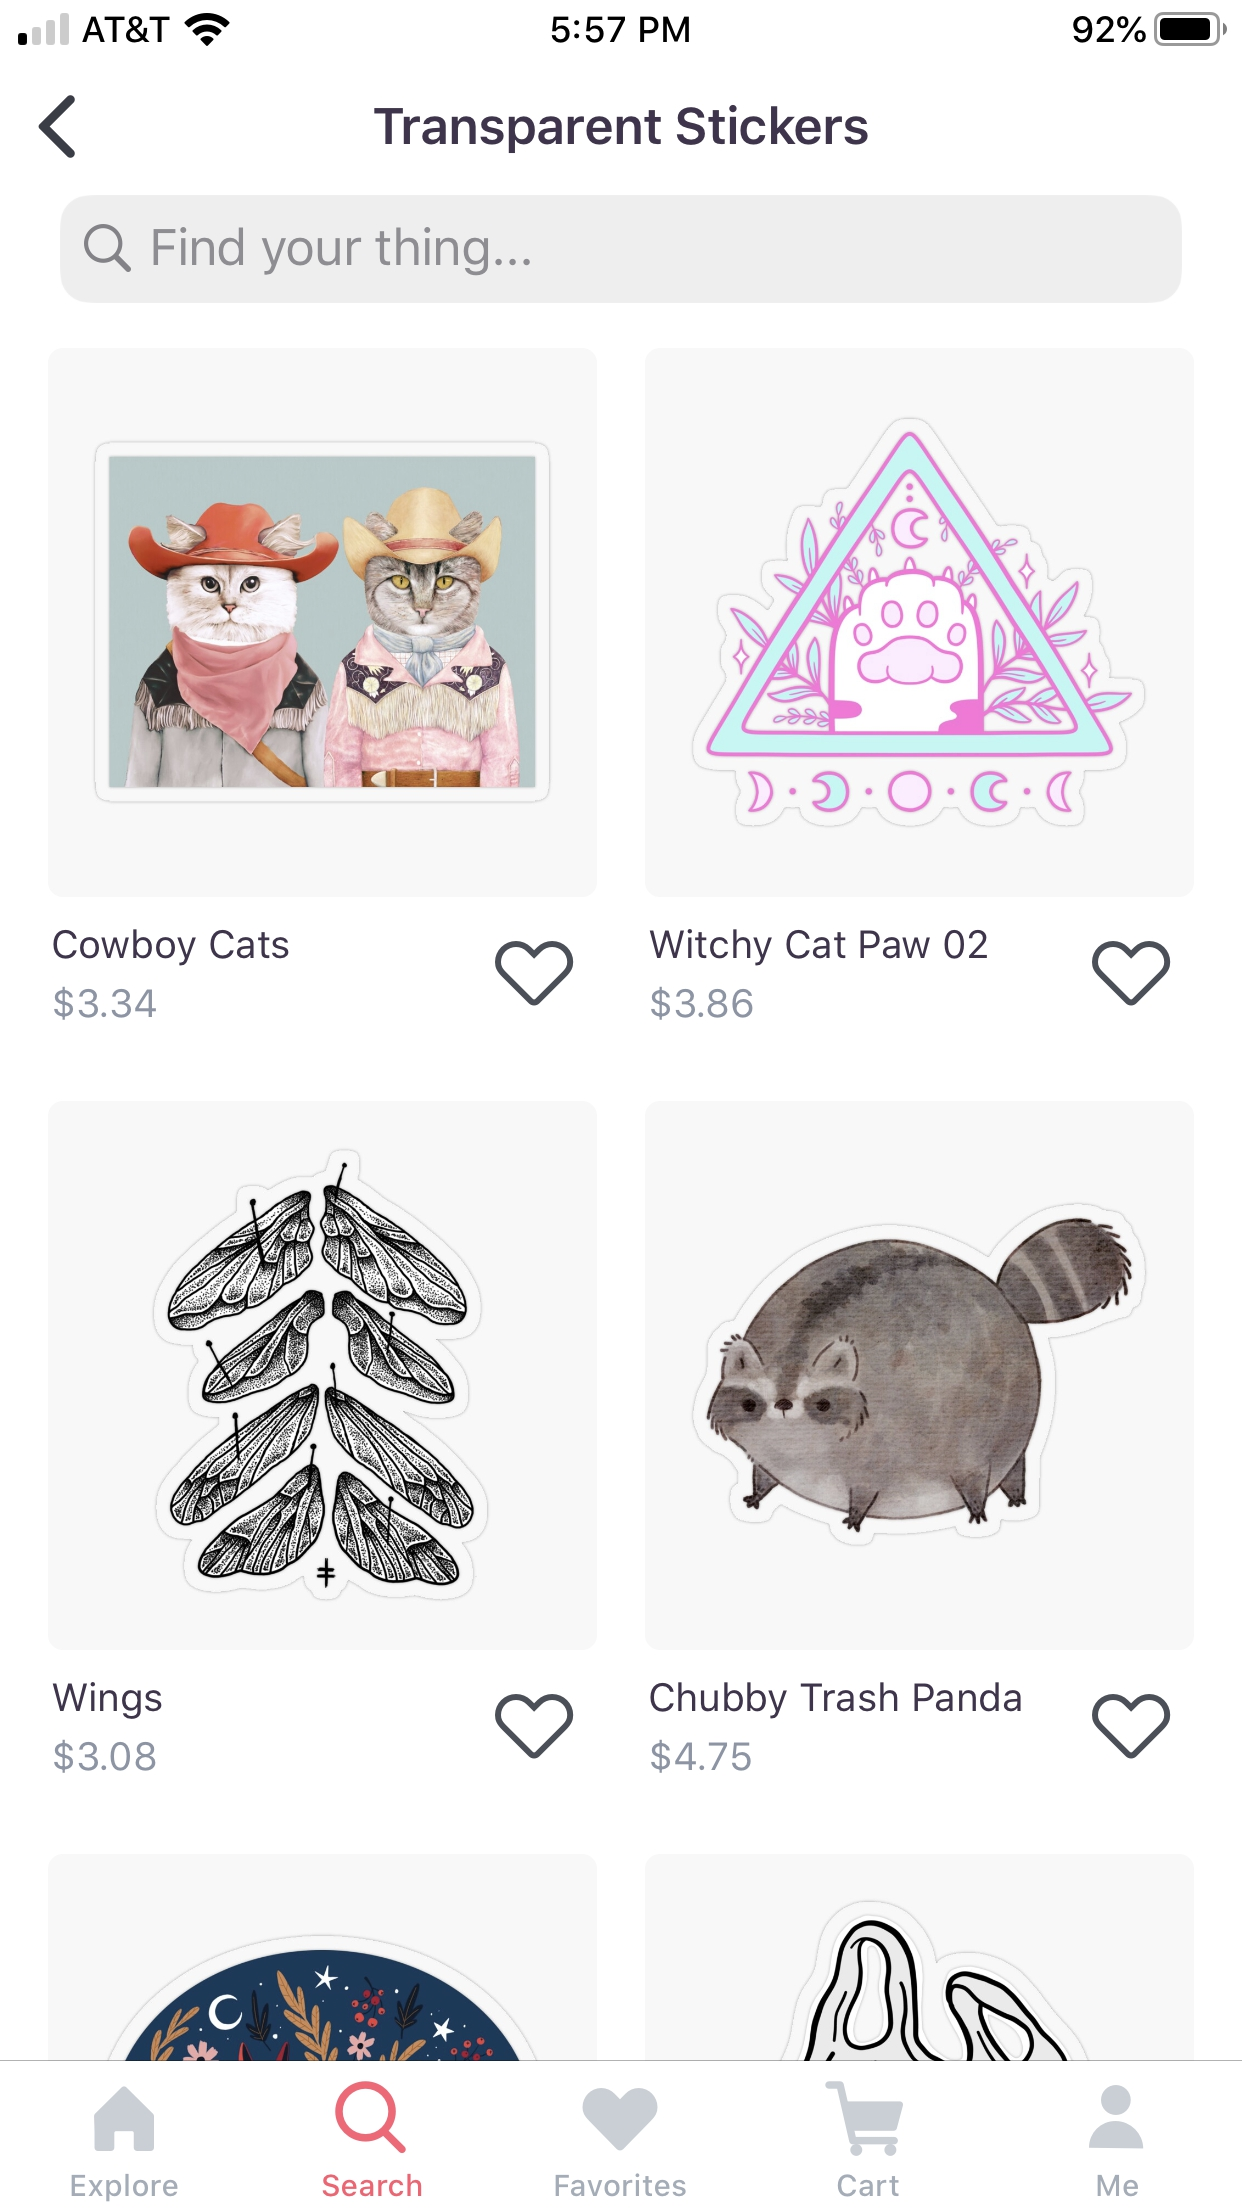EditText: (61, 196, 1181, 303)
Icon: (825, 2081, 902, 2156), (334, 2081, 406, 2153), (494, 1694, 575, 1759), (1092, 1694, 1171, 1759), (1090, 942, 1171, 1005), (494, 942, 575, 1005), (582, 2087, 658, 2150), (94, 2087, 155, 2150), (1089, 2085, 1143, 2149), (39, 96, 76, 159), (83, 224, 130, 271)
Image: (49, 347, 597, 898), (645, 1101, 1193, 1650), (49, 1101, 597, 1650), (646, 347, 1193, 898), (49, 1853, 597, 2059), (645, 1855, 1193, 2059)
Text: (375, 105, 867, 155), (153, 227, 529, 278), (651, 1682, 1021, 1720), (649, 930, 987, 966), (53, 930, 290, 966), (52, 1682, 162, 1720), (651, 986, 754, 1021), (55, 986, 156, 1021), (55, 1739, 156, 1773), (651, 1739, 751, 1773), (555, 2173, 687, 2197), (71, 2173, 177, 2202), (321, 2172, 422, 2197), (837, 2173, 899, 2197), (1096, 2173, 1137, 2197)
UpperTaskBar: (2, 2, 1242, 52)
